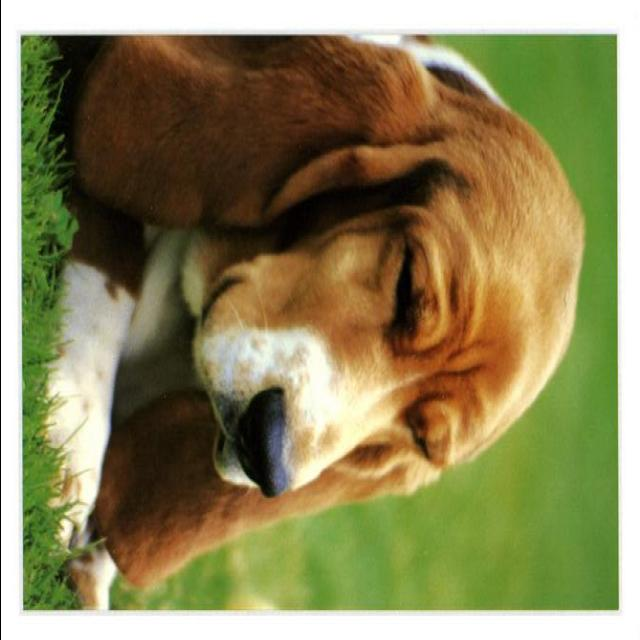basset: (42, 36, 582, 608)
